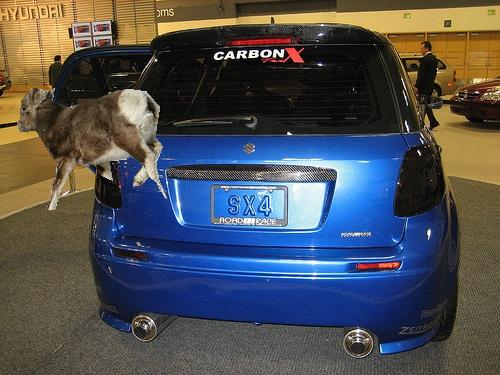tampered: (18, 89, 167, 210)
